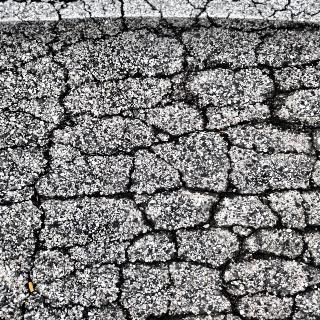alligator-crack: (21, 0, 320, 320), (104, 18, 320, 320), (54, 0, 272, 194), (47, 94, 212, 320)
